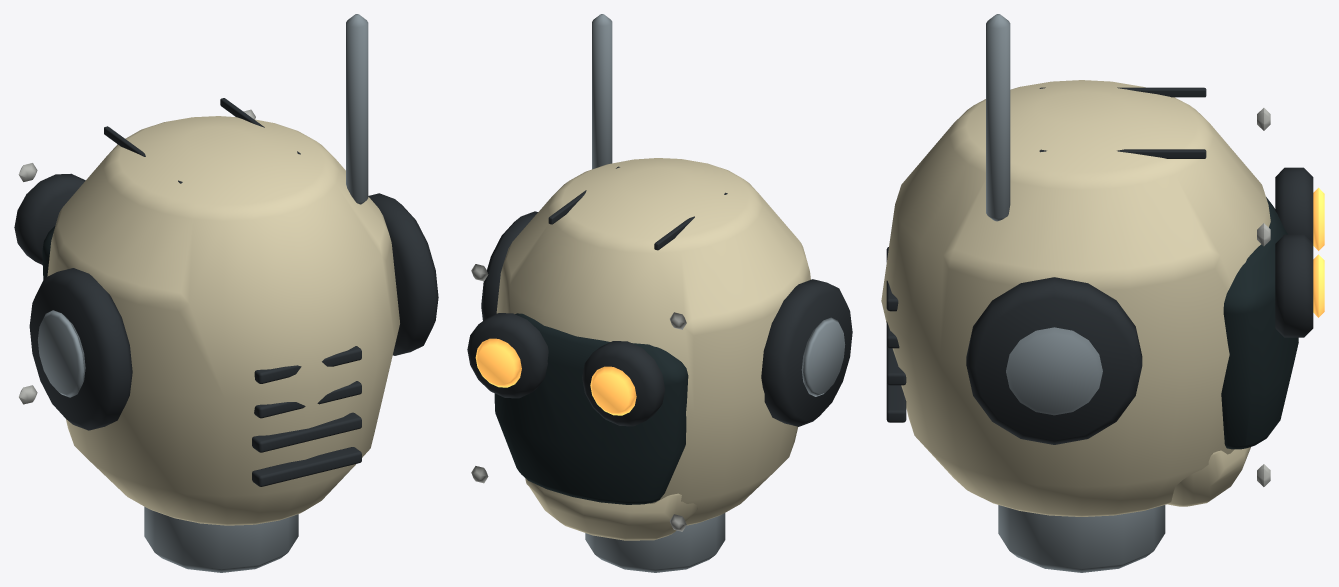
Rendered from heads_02.glb.
The picture shows the model from 3 angles, left to right: view 1: azimuth 30°, elevation 25°; view 2: azimuth 150°, elevation 25°; view 3: azimuth 270°, elevation 25°; orthographic projection. The views are drawn at different scales.
Visible parts, largest first — view 1: heads_02_Geometry; view 2: heads_02_Geometry; view 3: heads_02_Geometry.
Boxes of the visible parts, left/top/right/bottom form: heads_02_Geometry: left=14, top=14, right=438, bottom=572; heads_02_Geometry: left=467, top=14, right=852, bottom=572; heads_02_Geometry: left=881, top=14, right=1324, bottom=572.
Bounding box in the file's own units: 0.29 × 0.42 × 0.292.
